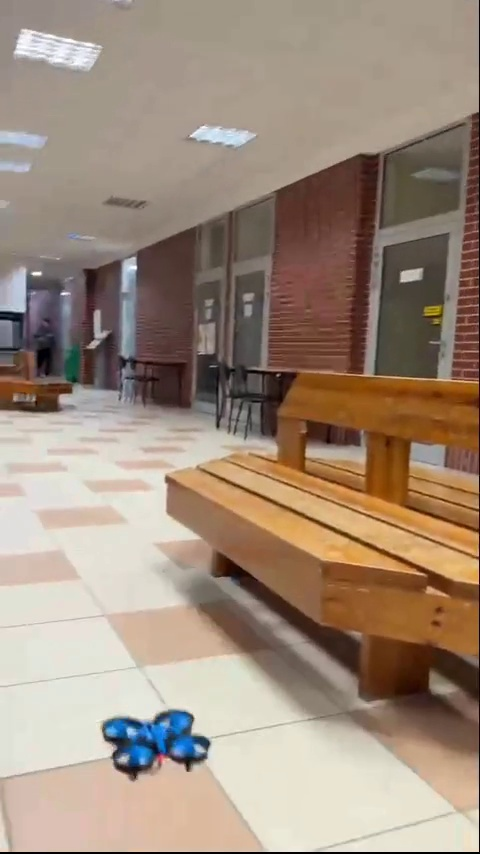drone: (105, 713, 207, 770)
no vest: (27, 315, 62, 379)
